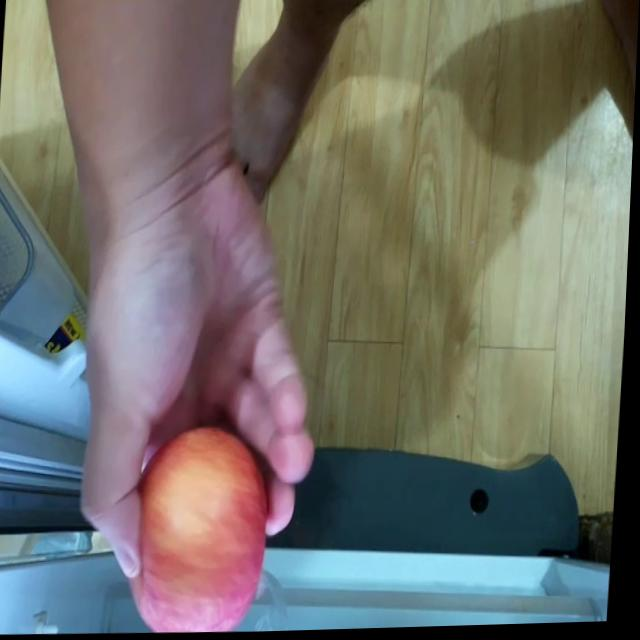apple: (139, 428, 282, 636)
